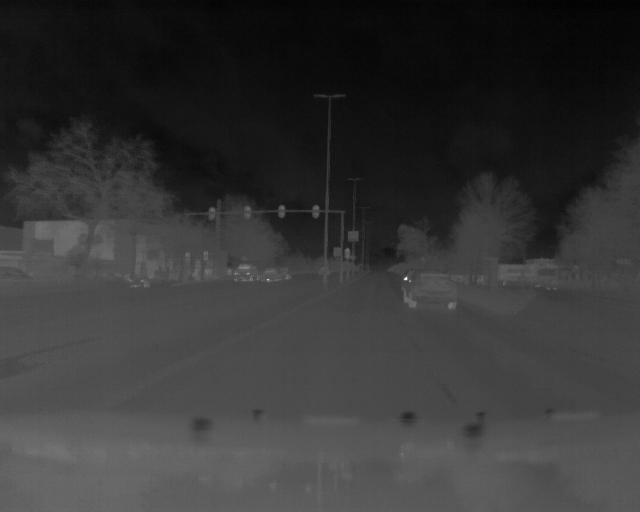car: (401, 270, 460, 312), (230, 263, 260, 284)
